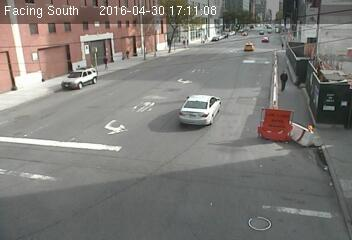neg: (143, 104, 162, 129), (98, 132, 117, 157), (170, 63, 184, 83), (194, 87, 208, 105)
pos: (273, 65, 294, 93), (120, 48, 133, 65), (98, 54, 111, 70), (278, 40, 286, 51)
